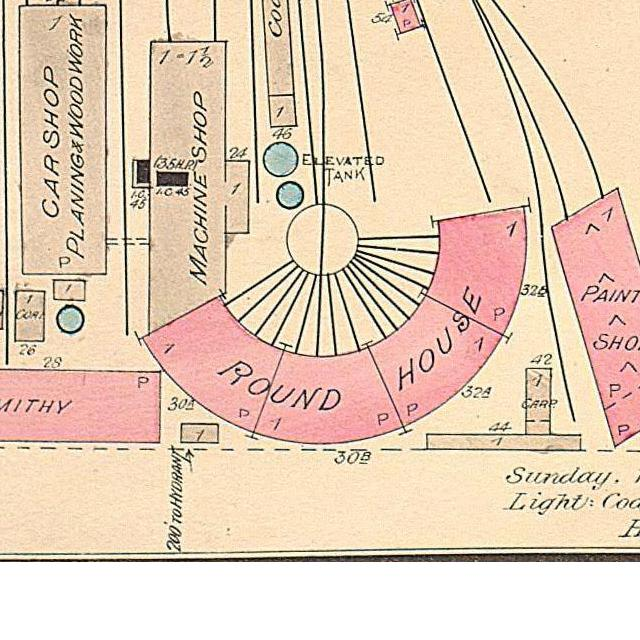building-footprints: (148, 41, 249, 335), (551, 189, 640, 448), (20, 6, 106, 274), (143, 295, 284, 433), (368, 296, 503, 427), (253, 347, 404, 443), (425, 206, 526, 335), (0, 369, 161, 441), (263, 0, 294, 96), (427, 435, 580, 450), (527, 368, 551, 435), (15, 291, 44, 341), (390, 0, 421, 33), (269, 95, 296, 127), (54, 279, 86, 300), (182, 424, 218, 442), (133, 160, 150, 188)
